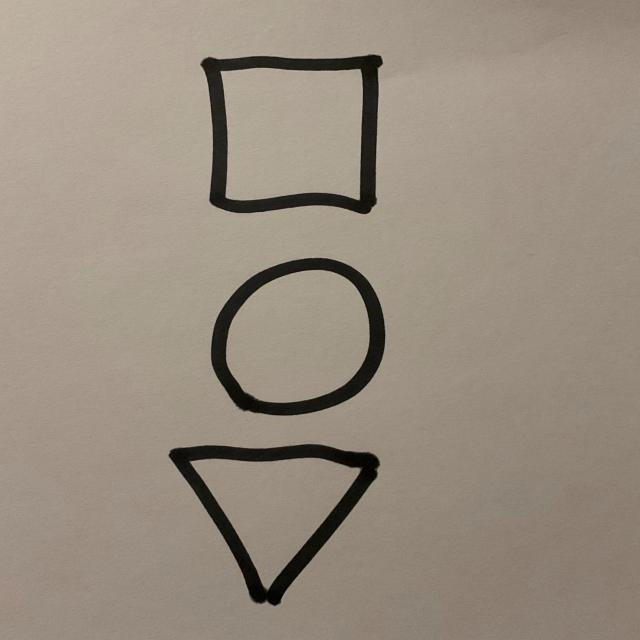Dreieck: (169, 445, 381, 609)
Kreis: (209, 258, 387, 417)
Quadrat: (200, 55, 384, 216)
